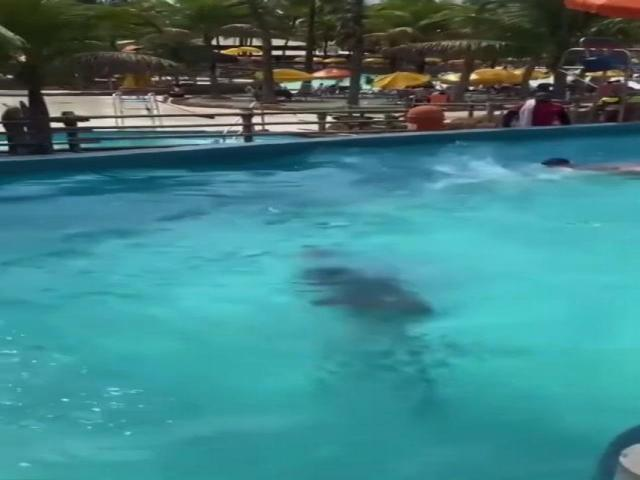drowning: (238, 237, 481, 358)
swimming: (447, 140, 623, 198)
